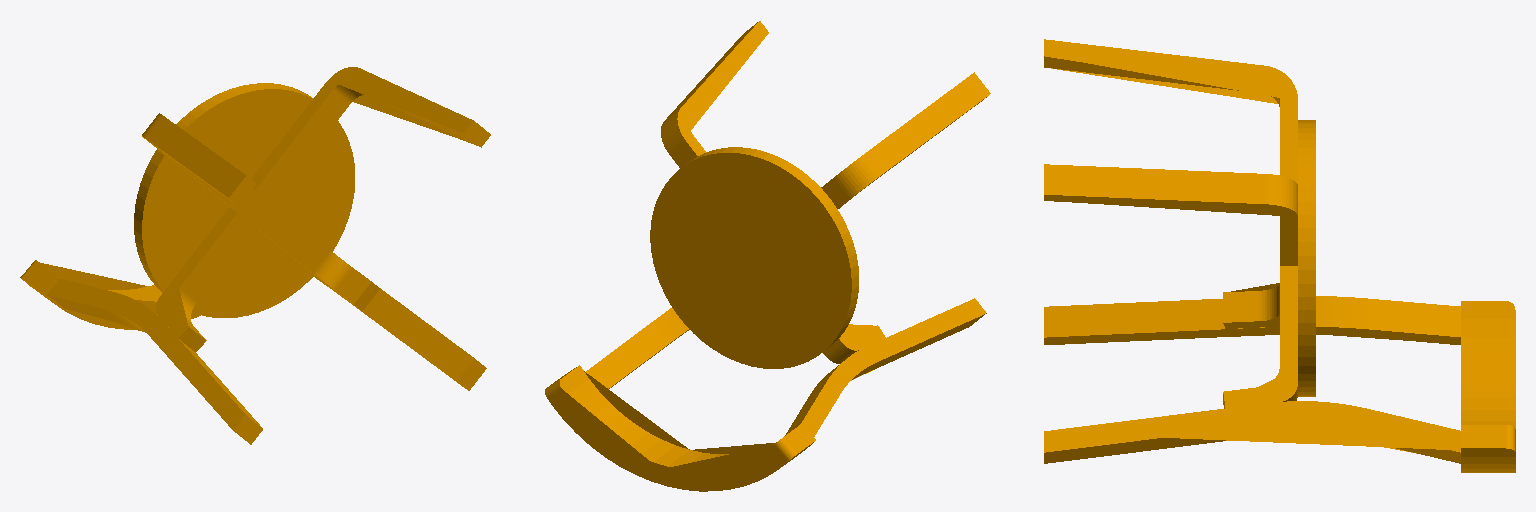
robot.urdf — chair_table_5:
<?xml version="1.0" ?>
<robot name="chair_table_5">
  <link name="baseLink">
    <visual>
      <origin rpy="0 0 0" xyz="0 0 0"/>
      <geometry>
        <mesh filename="chair_table.obj" scale="0.0016 0.0016 0.0016"/>
      </geometry>
    </visual>

    <collision>
      <origin rpy="0 0 0" xyz="0 0 0"/>
      <geometry>
        <mesh filename="chair_table.obj" scale="0.0016 0.0016 0.0016"/>
      </geometry>
    </collision>

    <inertial>
      <origin rpy="0 0 0" xyz="0 0 0"/>
      <mass value="0.0"/>
      <inertia ixx="0" ixy="0" ixz="0" iyy="0" iyz="0" izz="0"/>
    </inertial>
  </link>
</robot>

--- Render facts (derived) ---
The picture shows the robot from 3 angles, left to right: view 1: azimuth 30°, elevation 25°; view 2: azimuth 150°, elevation 25°; view 3: azimuth 270°, elevation 25°; orthographic projection.
Robot: chair_table_5 — 1 links, 0 joints (none); root link baseLink; default pose: all joints at 0.
Links seen in each view (by area): view 1: baseLink; view 2: baseLink; view 3: baseLink.
Boxes of the visible links, x1=… form: baseLink: x1=20, y1=67, x2=490, y2=444; baseLink: x1=545, y1=21, x2=990, y2=491; baseLink: x1=1044, y1=39, x2=1515, y2=472.
Size in the robot's own frame: 0.6084 by 0.832 by 0.6839 metres.
Meshes: 1 distinct files referenced, 1 mesh visuals loaded (1 OBJ).